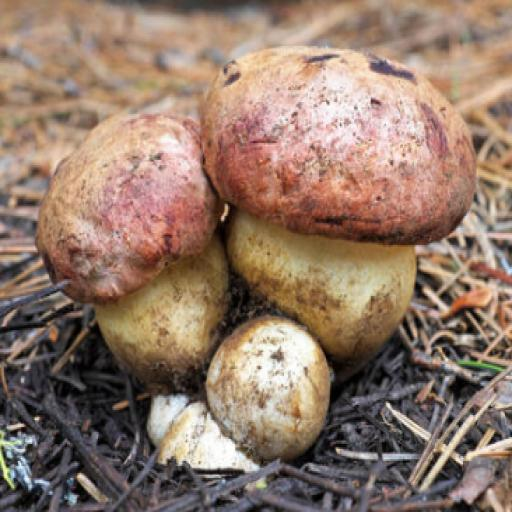Button Mushroom: (206, 35, 479, 354), (38, 108, 228, 376), (206, 312, 341, 456)
